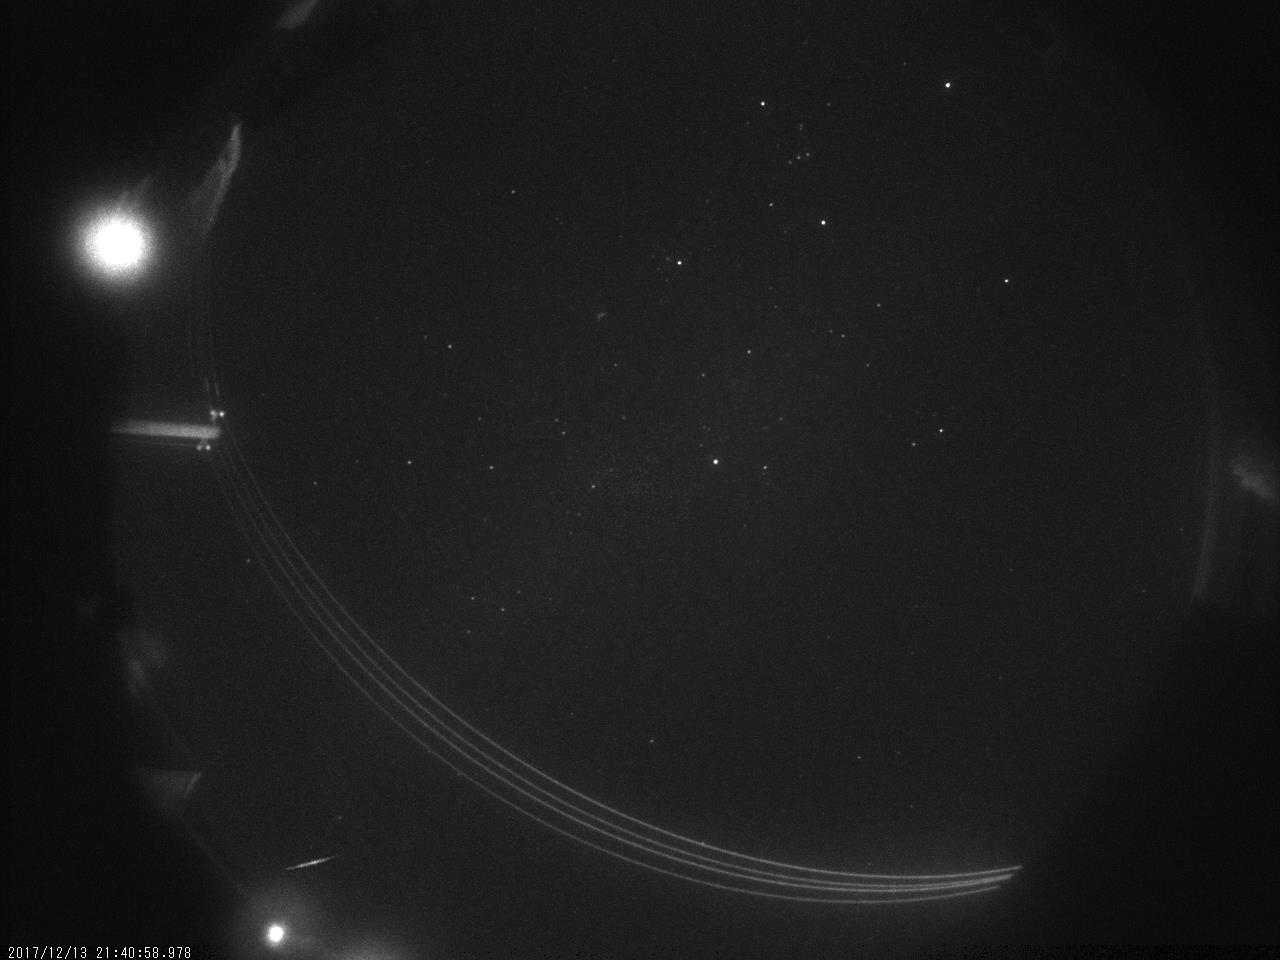meteor: (280, 848, 344, 878)
